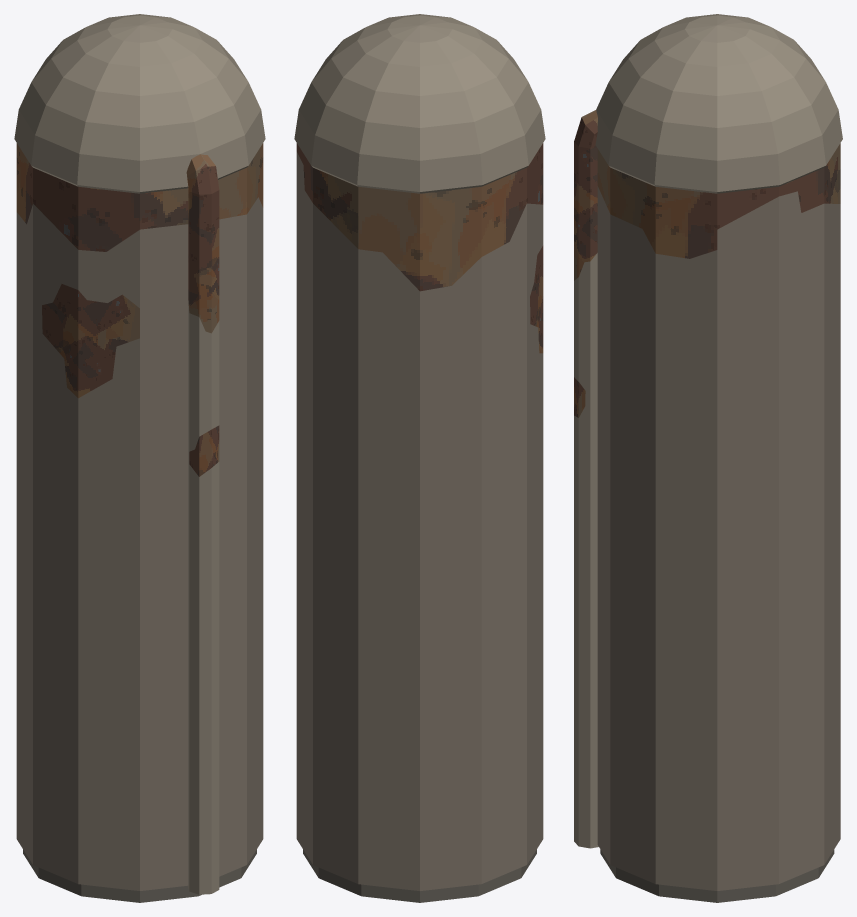
The model's file is sc-silo.glb.
3 renders of one model, left to right at view 1: azimuth 30°, elevation 25°; view 2: azimuth 150°, elevation 25°; view 3: azimuth 270°, elevation 25°, orthographic.
Visible parts, largest first — view 1: SM_Bld_Silo_01; view 2: SM_Bld_Silo_01; view 3: SM_Bld_Silo_01.
Boxes of the visible parts, box(x1,y1,x2,y2) form: SM_Bld_Silo_01: box(14, 14, 265, 902); SM_Bld_Silo_01: box(294, 14, 545, 902); SM_Bld_Silo_01: box(574, 14, 842, 902).
Bounding box in the file's own units: 6.6 × 24 × 7.06.
Materials: 1 (1 with a texture image).
